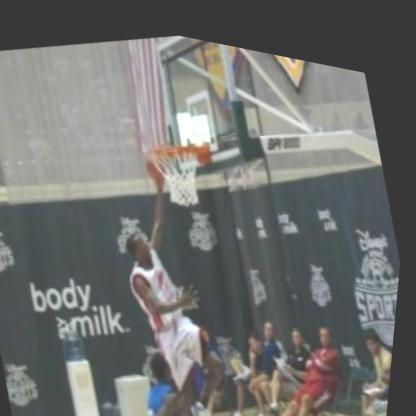basketball: (143, 134, 181, 182)
rim: (144, 127, 213, 213)
